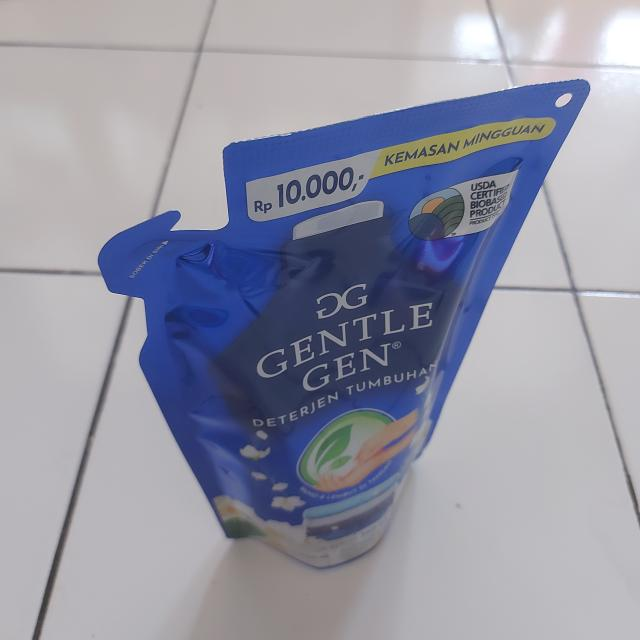Anorganik: (99, 82, 587, 566)
